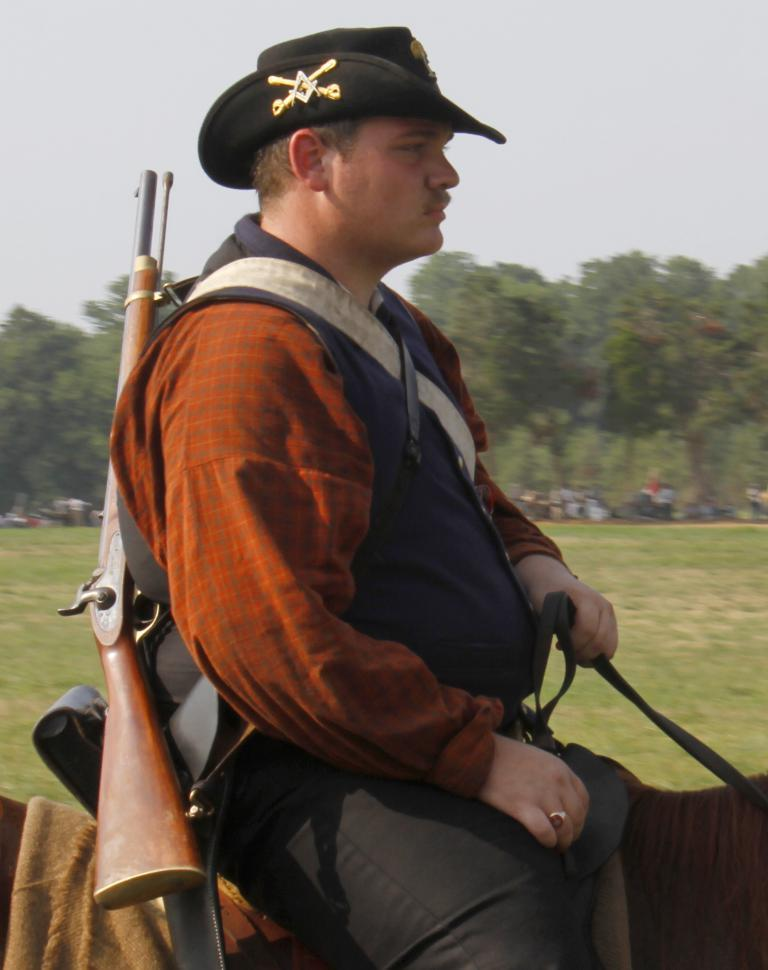Hat: (200, 23, 502, 190)
